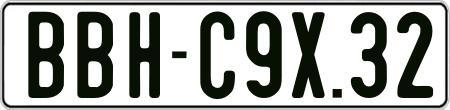2: (396, 12, 433, 103)
3: (351, 10, 389, 102)
9: (244, 8, 283, 100)
B: (76, 12, 113, 103), (27, 12, 63, 104)
C: (199, 10, 239, 102)
H: (126, 10, 160, 100)
X: (289, 10, 327, 102)
